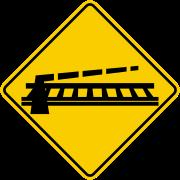Barrier Ahead: (9, 15, 175, 160)
